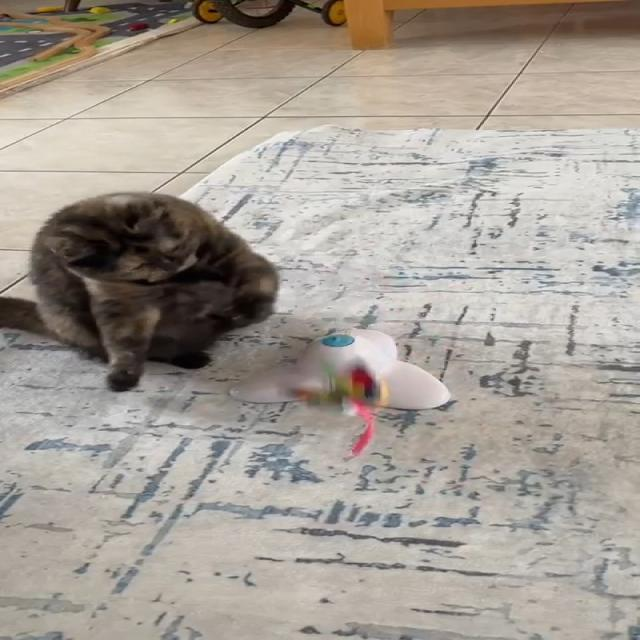authorized: (0, 191, 279, 392)
